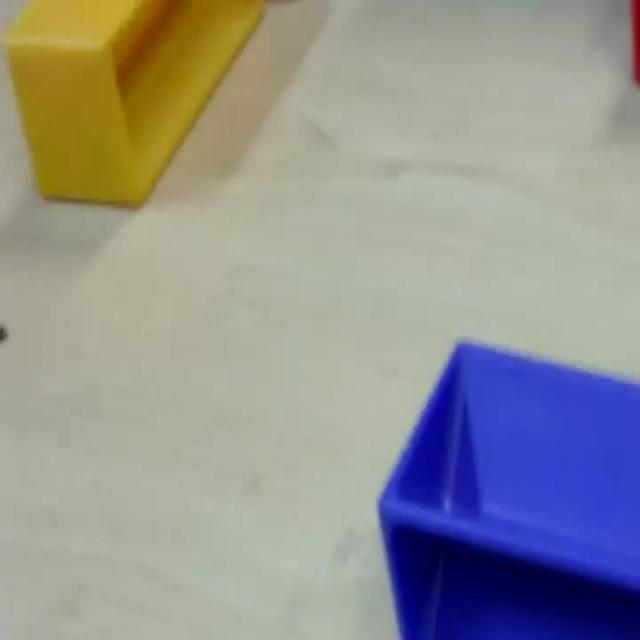blue_block: (376, 335, 638, 637)
yellow_block: (3, 0, 266, 208)
